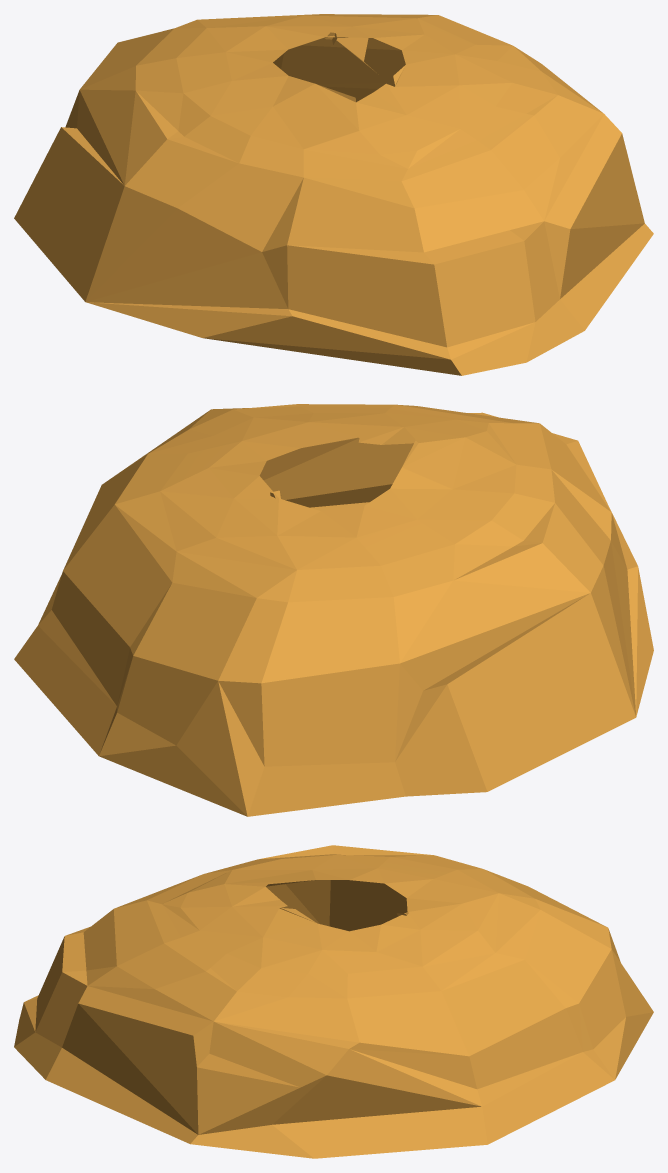
Rendered from Island-vulcano(Finalfixed).fbx.
3 renders of one model, top to bottom at view 1: azimuth 30°, elevation 25°; view 2: azimuth 150°, elevation 25°; view 3: azimuth 270°, elevation 25°, orthographic. The views are drawn at different scales.
Parts seen in each view (by area): view 1: island-vulcano; view 2: island-vulcano; view 3: island-vulcano.
Boxes of the visible parts, <box> form: island-vulcano: <box>14,14,653,375</box>; island-vulcano: <box>14,404,653,816</box>; island-vulcano: <box>14,845,653,1158</box>.
Bounding box in the file's own units: 16774 × 5383 × 20192.
